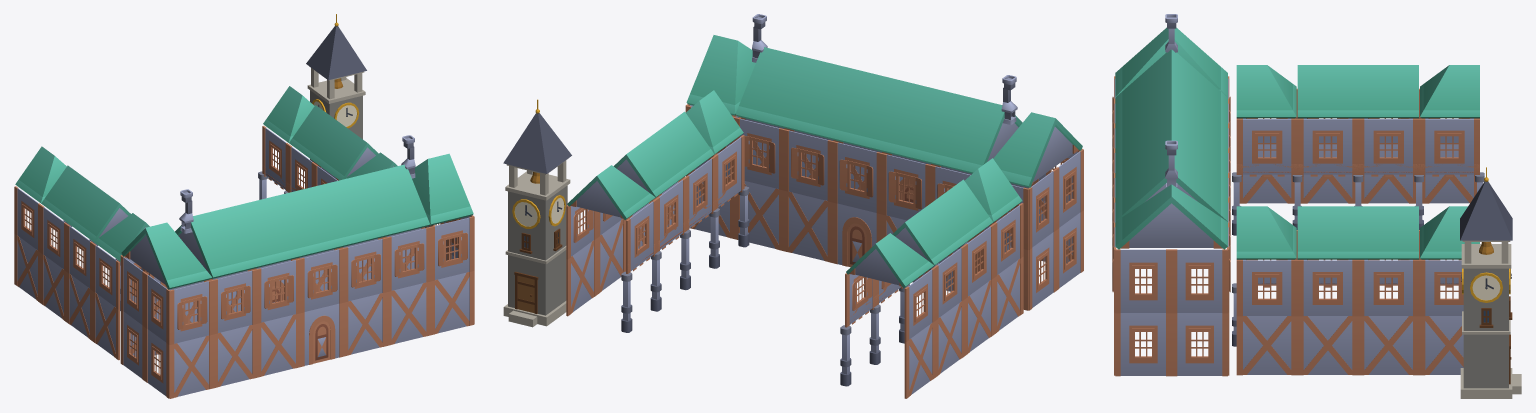
File: london_bld_exchange.glb
3 views of the same model, side by side, from view 1: azimuth 30°, elevation 25°; view 2: azimuth 150°, elevation 25°; view 3: azimuth 270°, elevation 25° (orthographic). The views are drawn at different scales.
Parts seen in each view (by area): view 1: wall-window-shutters (×17), roof-gable (×9), wall-detail-cross (×10), roof-gable-end (×6), Tower spire, wall-door, door, Tower courses, Tower shaft, Tower lantern; view 2: wall-window-shutters (×20), roof-gable (×9), wall-detail-cross (×9), roof-gable-end (×6), Tower shaft, pillar-stone (×7), Tower spire, wall-door, Tower courses, door, Tower clock faces, Tower lantern (+1 smaller); view 3: wall-window-shutters (×12), roof-gable (×9), wall-detail-cross (×8), roof-gable-end (×6), Tower shaft, Tower spire, Tower courses, pillar-stone (×2), Tower clock faces, Tower lantern, Tower clock rims.
Part boxes in pixels (bbox=[...]): wall-window-shutters (×17): bbox=[14, 126, 474, 398]; roof-gable (×9): bbox=[41, 105, 429, 278]; wall-detail-cross (×10): bbox=[14, 234, 474, 398]; roof-gable-end (×6): bbox=[15, 86, 473, 289]; Tower spire: bbox=[306, 26, 366, 80]; wall-door: bbox=[300, 302, 343, 366]; door: bbox=[313, 321, 330, 363]; Tower courses: bbox=[307, 78, 365, 103]; Tower shaft: bbox=[310, 90, 362, 162]; Tower lantern: bbox=[309, 66, 364, 99]; wall-window-shutters (×20): bbox=[566, 117, 1083, 341]; roof-gable (×9): bbox=[613, 47, 1022, 266]; wall-detail-cross (×9): bbox=[566, 169, 1023, 398]; roof-gable-end (×6): bbox=[567, 35, 1082, 288]; Tower shaft: bbox=[508, 185, 567, 315]; pillar-stone (×7): bbox=[621, 186, 880, 386]; Tower spire: bbox=[503, 113, 571, 173]; wall-door: bbox=[832, 202, 881, 266]; Tower courses: bbox=[503, 171, 570, 326]; door: bbox=[847, 223, 866, 267]; Tower clock faces: bbox=[514, 197, 564, 226]; Tower lantern: bbox=[506, 158, 568, 195]; wall-window-shutters (×12): bbox=[1115, 119, 1479, 376]; roof-gable (×9): bbox=[1115, 49, 1418, 259]; wall-detail-cross (×8): bbox=[1236, 144, 1476, 375]; roof-gable-end (×6): bbox=[1115, 27, 1479, 259]; Tower shaft: bbox=[1463, 268, 1508, 388]; Tower spire: bbox=[1460, 181, 1512, 240]; Tower courses: bbox=[1460, 244, 1512, 398]; pillar-stone (×2): bbox=[1232, 172, 1302, 235]; Tower clock faces: bbox=[1472, 275, 1500, 300]; Tower lantern: bbox=[1462, 240, 1510, 263]; Tower clock rims: bbox=[1462, 268, 1510, 302].
Bounding box in the file's own units: 21.51 × 11.21 × 18.84.
Materials: 19 (9 with a texture image).
